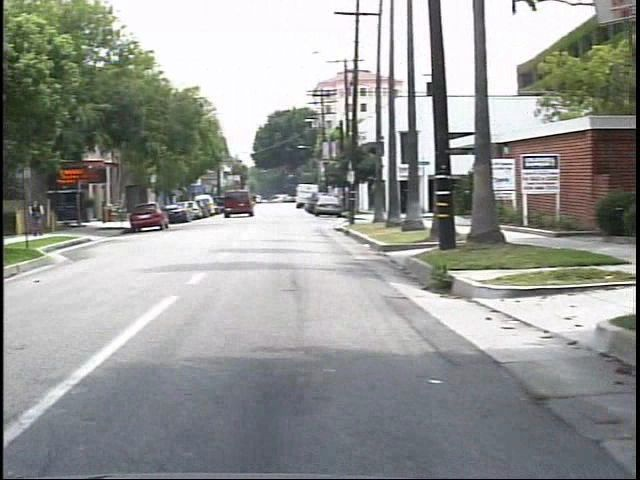person: (17, 192, 49, 239)
